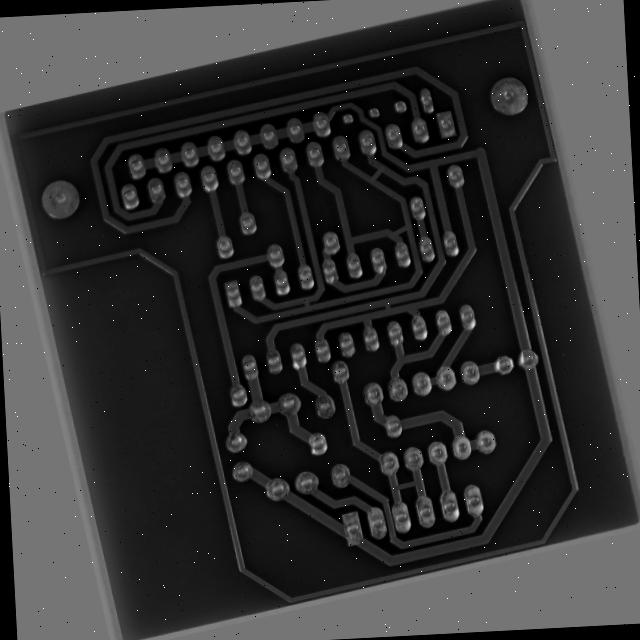short: (361, 515, 413, 538), (394, 151, 433, 179), (410, 221, 447, 245), (390, 305, 409, 332), (298, 286, 320, 309)
